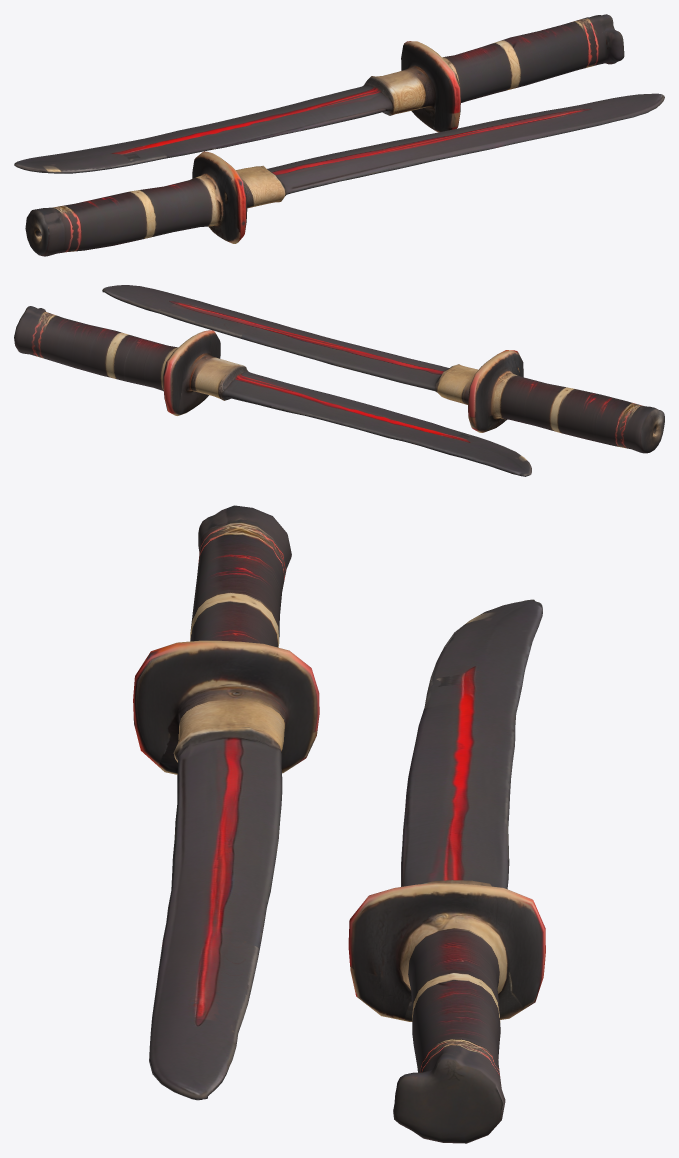
File: Cyber_Katana_Dual_Bla_1129143052_texture.fbx
3 renders of one model, top to bottom at view 1: azimuth 30°, elevation 25°; view 2: azimuth 150°, elevation 25°; view 3: azimuth 270°, elevation 25°, orthographic. The views are drawn at different scales.
Parts seen in each view (by area): view 1: Mesh0; view 2: Mesh0; view 3: Mesh0.
Boxes of the visible parts, x1,y1,x2,y2 form: Mesh0: (14, 14, 664, 256); Mesh0: (14, 285, 664, 476); Mesh0: (133, 505, 545, 1143).
Bounding box in the file's own units: 349 × 40 × 108.
Materials: 1 (1 with a texture image).
